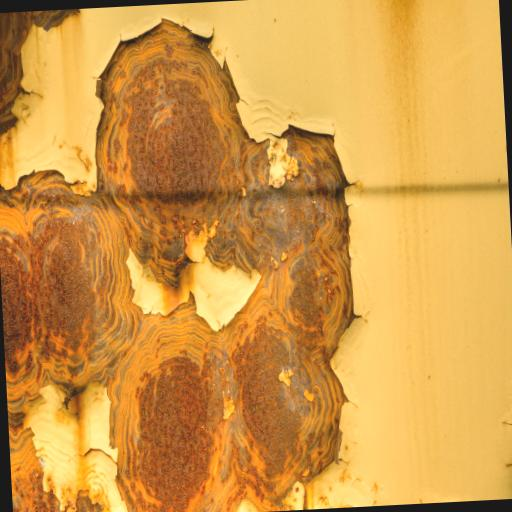corrosion: (0, 11, 363, 512), (0, 9, 79, 135), (76, 490, 102, 512)
